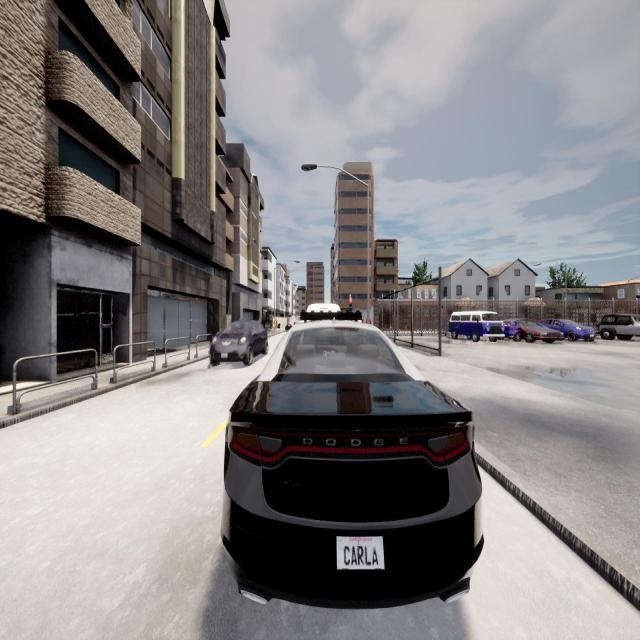Vehicle: (222, 320, 484, 607), (210, 320, 268, 365), (450, 312, 504, 341), (508, 318, 564, 342), (550, 318, 595, 342), (599, 314, 640, 340), (306, 303, 340, 314)
traffic_light: (349, 298, 352, 307)
